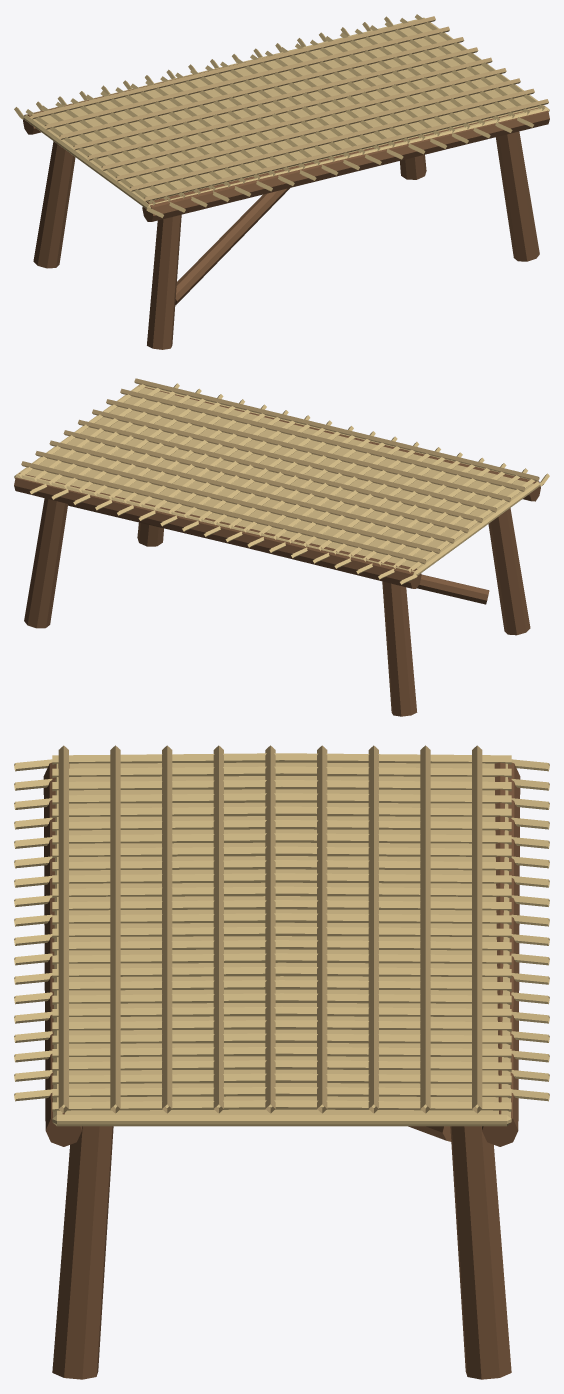
3 renders of one model, top to bottom at view 1: azimuth 30°, elevation 25°; view 2: azimuth 150°, elevation 25°; view 3: azimuth 270°, elevation 25°, orthographic. The views are drawn at different scales.
Parts seen in each view (by area): view 1: BA-0012 batched; view 2: BA-0012 batched; view 3: BA-0012 batched.
Boxes of the visible parts, x1,y1,x2,y2 form: BA-0012 batched: [14, 14, 549, 349]; BA-0012 batched: [14, 378, 549, 716]; BA-0012 batched: [14, 745, 549, 1379].
Size of the model in its own units: 1.49 by 0.551 by 0.9336.
